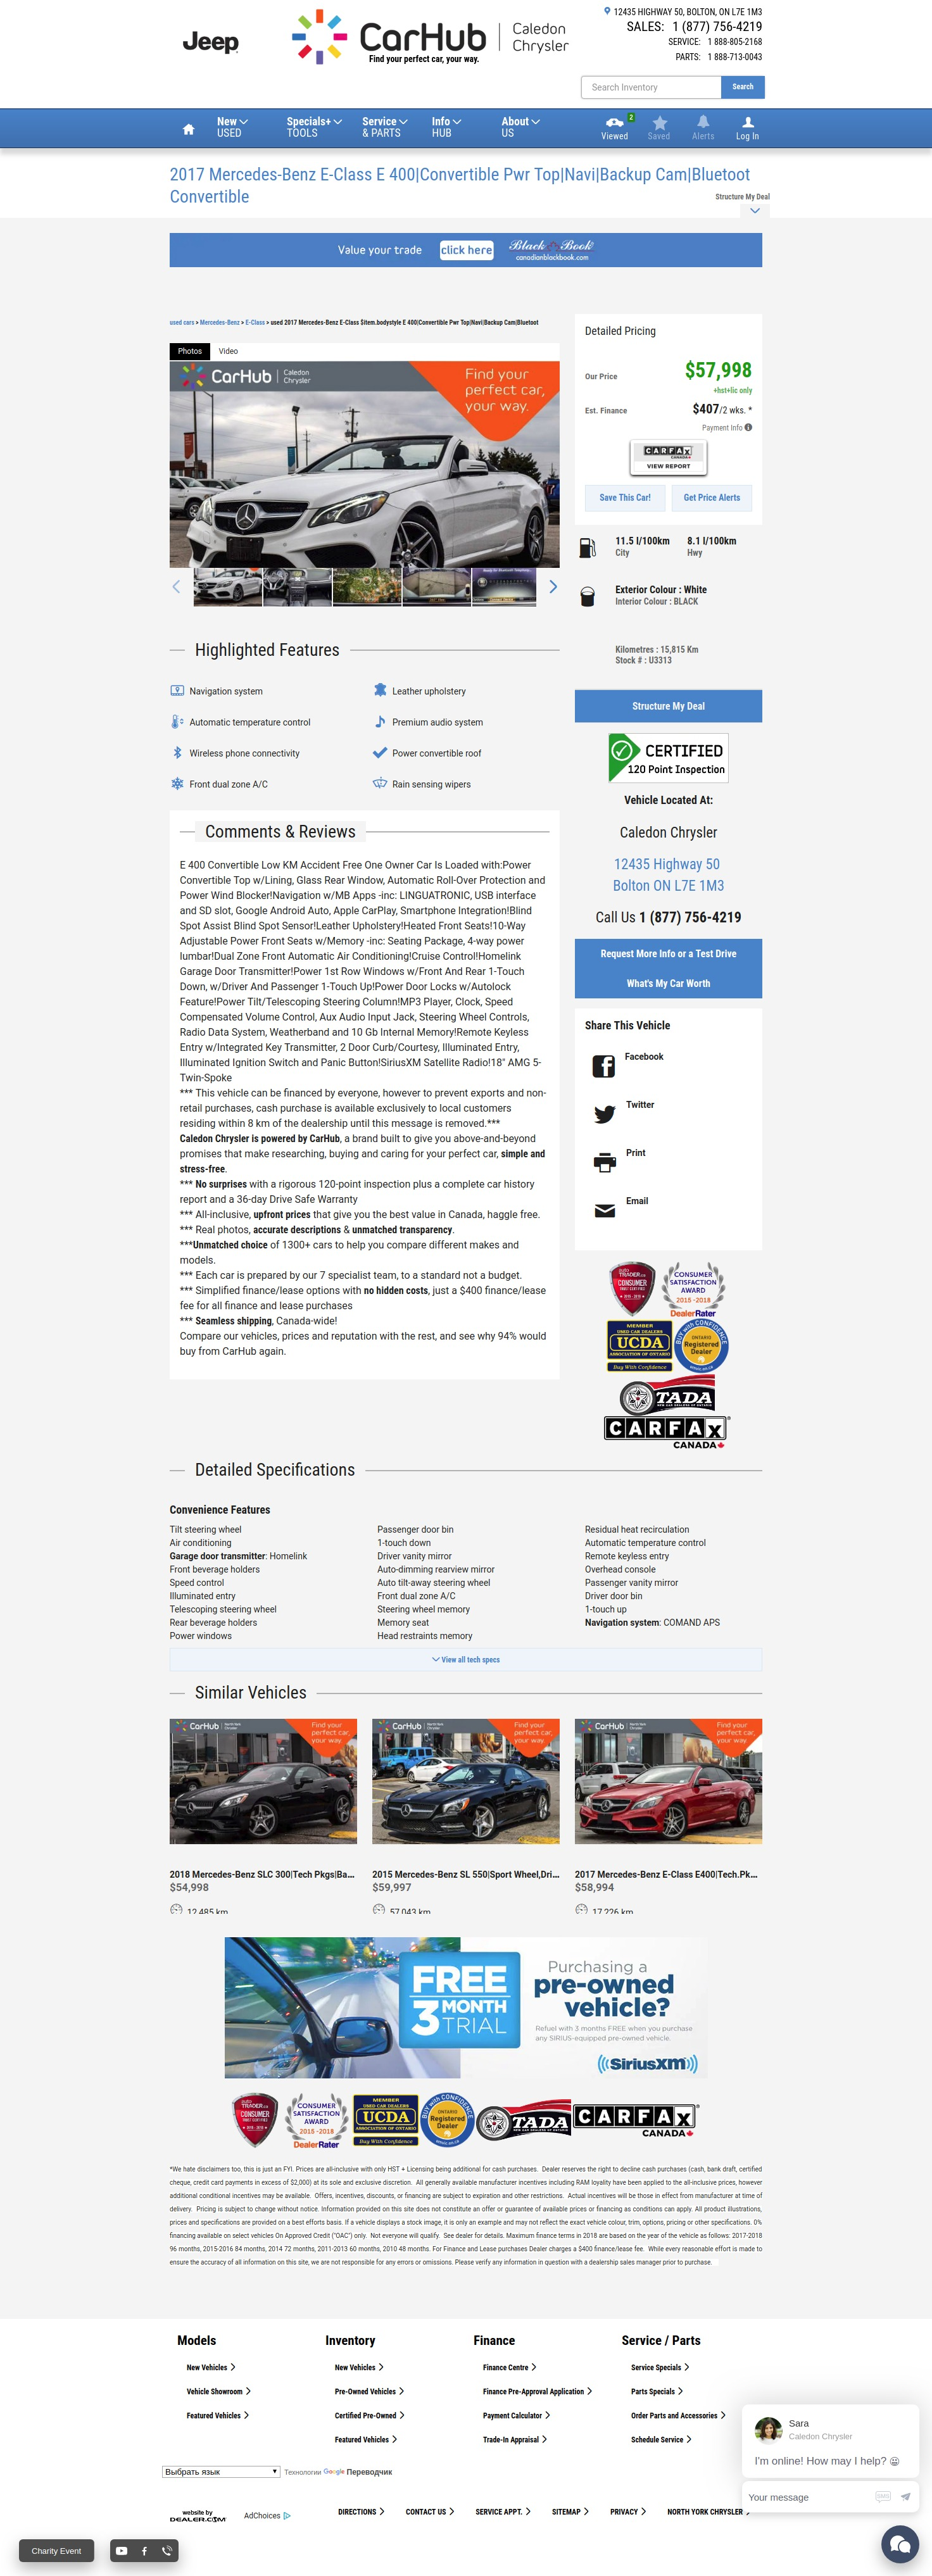car: (549, 580, 559, 595)
